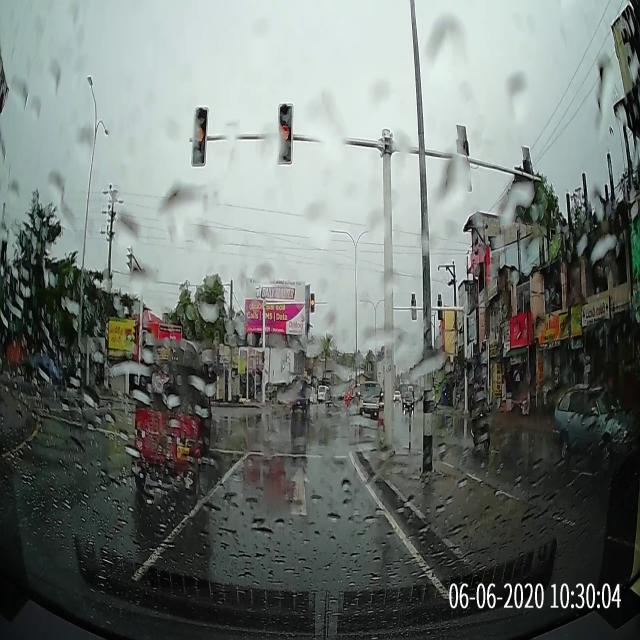Strelka vpered: (289, 467, 311, 516)
